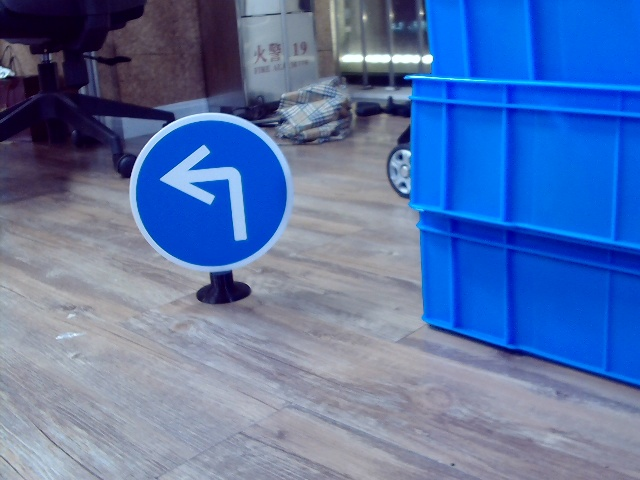turn_left: (161, 140, 253, 238)
